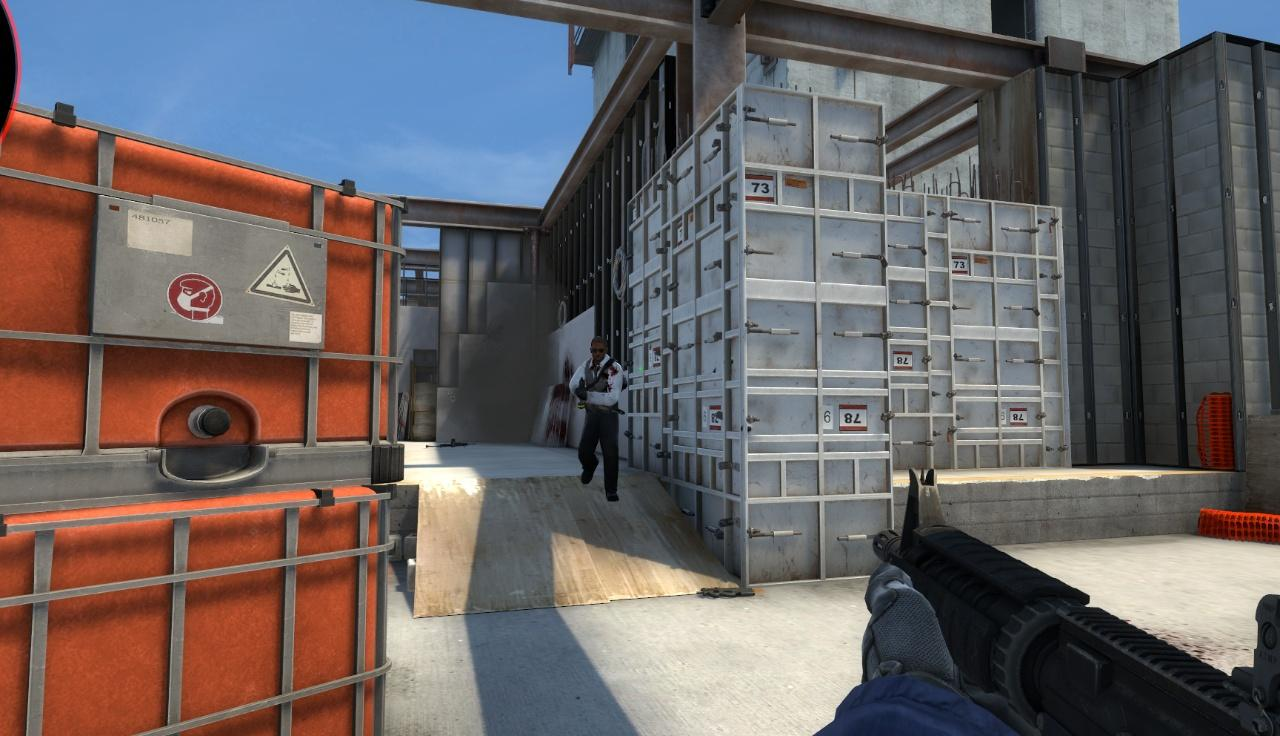rifle: (854, 457, 1280, 736)
tt: (577, 335, 623, 503)
tthead: (588, 335, 607, 362)
